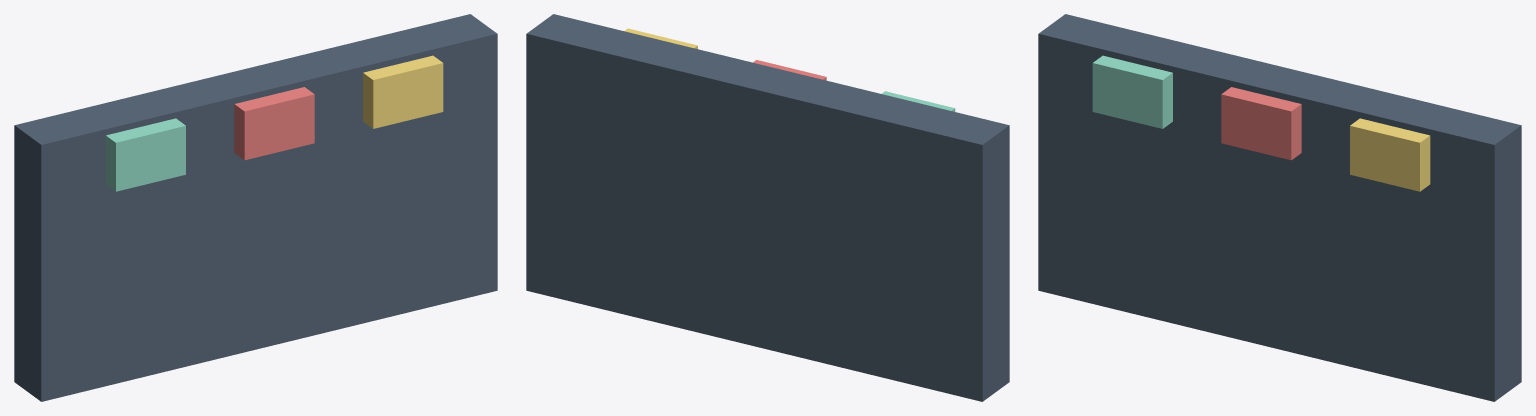
File: headwall.glb
The picture shows the model from 3 angles, left to right: view 1: azimuth 30°, elevation 25°; view 2: azimuth 150°, elevation 25°; view 3: azimuth 330°, elevation 25°; orthographic projection.
Parts seen in each view (by area): view 1: medical gas headwall rail panel, suction outlet red block, oxygen outlet green block, call outlet yellow block; view 2: medical gas headwall rail panel; view 3: medical gas headwall rail panel, suction outlet red block, call outlet yellow block, oxygen outlet green block.
Boxes of the visible parts, x1,y1,x2,y2 form: medical gas headwall rail panel: (14, 14, 497, 401); suction outlet red block: (234, 87, 314, 160); oxygen outlet green block: (105, 118, 185, 191); call outlet yellow block: (363, 55, 443, 128); medical gas headwall rail panel: (526, 14, 1009, 401); medical gas headwall rail panel: (1038, 14, 1521, 401); suction outlet red block: (1221, 87, 1301, 160); call outlet yellow block: (1350, 118, 1430, 191); oxygen outlet green block: (1092, 55, 1172, 128).
Size of the model in its own units: 0.78 by 0.42 by 0.11.
